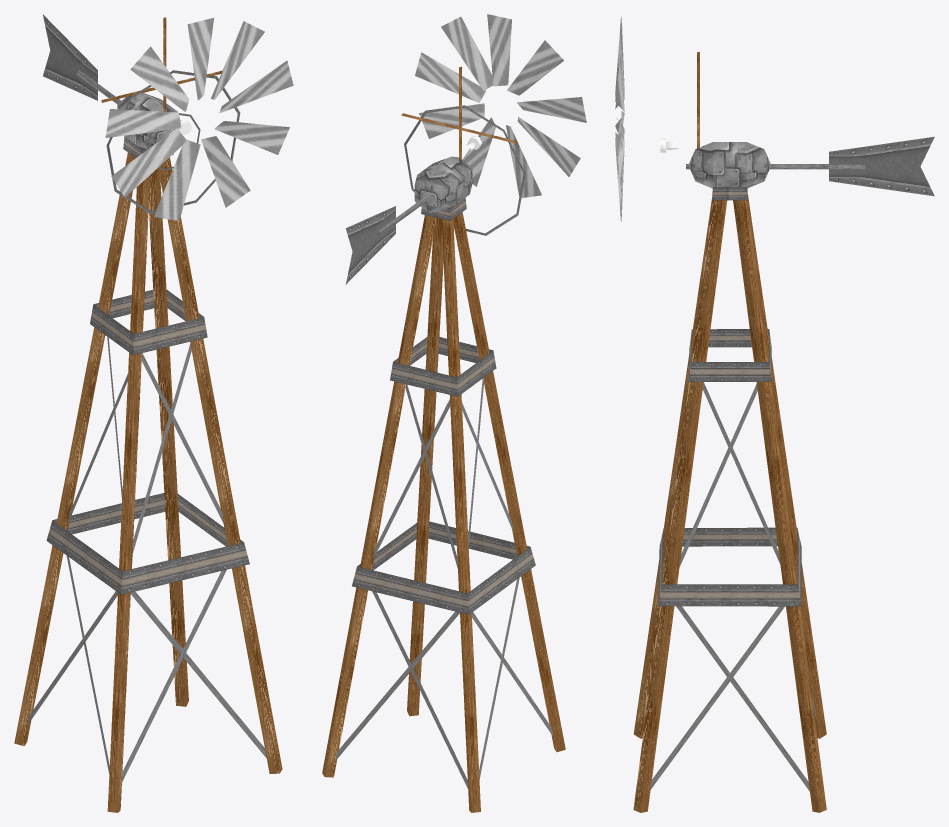
3 renders of one model, left to right at view 1: azimuth 30°, elevation 25°; view 2: azimuth 150°, elevation 25°; view 3: azimuth 270°, elevation 25°, orthographic. The views are drawn at different scales.
Parts seen in each view (by area): view 1: legs, blades, bolted_metal, cross_pieces, tail, body, circular_metal, wood_cross; view 2: legs, blades, bolted_metal, cross_pieces, body, tail, circular_metal, wood_cross; view 3: legs, bolted_metal, tail, cross_pieces, body, blades, tail_runner.
Boxes of the visible parts, x1,y1,x2,y2 form: legs: [14, 152, 282, 812]; blades: [105, 18, 293, 220]; bolted_metal: [46, 136, 249, 594]; cross_pieces: [27, 337, 266, 782]; tail: [43, 14, 97, 100]; body: [117, 93, 177, 149]; circular_metal: [106, 70, 240, 213]; wood_cross: [101, 17, 222, 111]; legs: [322, 207, 565, 812]; blades: [415, 14, 586, 198]; bolted_metal: [352, 198, 535, 614]; cross_pieces: [335, 378, 553, 788]; body: [414, 156, 472, 212]; tail: [345, 206, 395, 284]; circular_metal: [404, 105, 525, 235]; wood_cross: [401, 66, 517, 159]; legs: [633, 193, 826, 812]; bolted_metal: [658, 187, 801, 606]; tail: [829, 136, 934, 196]; cross_pieces: [645, 382, 816, 791]; body: [688, 142, 770, 188]; blades: [615, 16, 624, 221]; tail_runner: [686, 164, 865, 169].
Size of the model in its own units: 184 by 729 by 283.
Materials: 10 (9 with a texture image).
